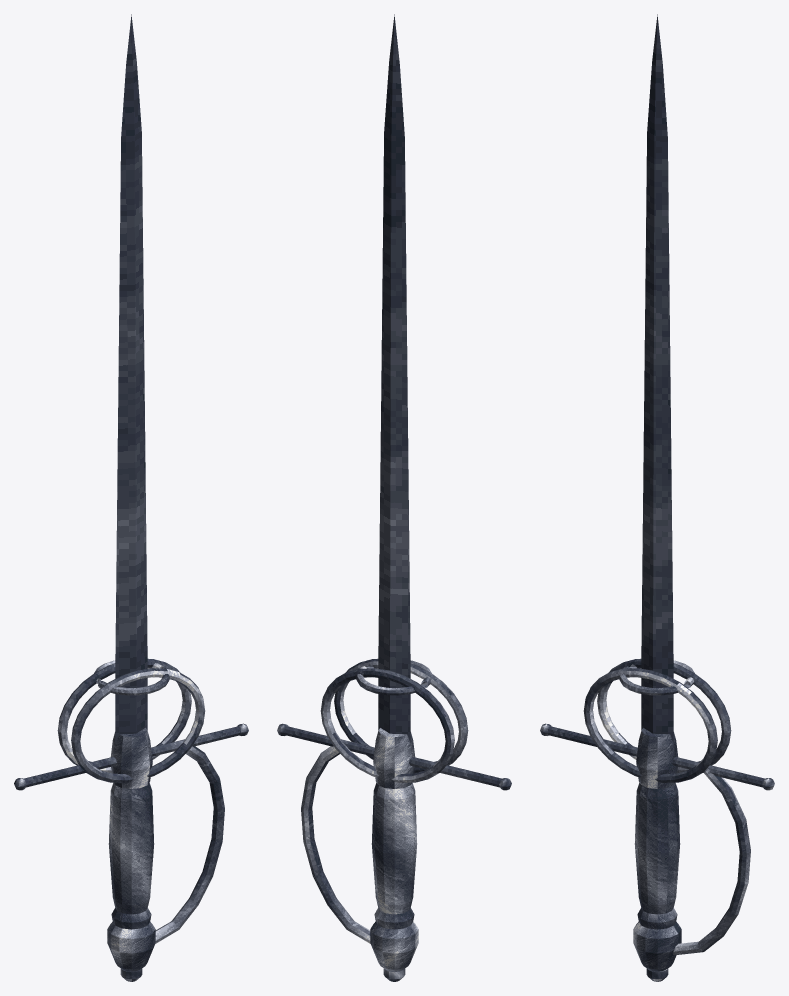
Rendered from rapieira.glb.
3 renders of one model, left to right at view 1: azimuth 30°, elevation 25°; view 2: azimuth 150°, elevation 25°; view 3: azimuth 330°, elevation 25°, orthographic.
Visible parts, largest first — view 1: Lâmina fina de rapieira, Empunhadura metálica, Aro oval da guarda, Arco de proteção, Aro oval da guarda.001, Centro de união da guarda, Pomo em gota, Braço transversal, Aro ao redor da lâmina, Colar do pomo; view 2: Lâmina fina de rapieira, Empunhadura metálica, Aro oval da guarda.001, Arco de proteção, Aro oval da guarda, Centro de união da guarda, Pomo em gota, Braço transversal, Aro ao redor da lâmina, Colar do pomo; view 3: Lâmina fina de rapieira, Empunhadura metálica, Aro oval da guarda, Arco de proteção, Aro oval da guarda.001, Centro de união da guarda, Pomo em gota, Braço transversal, Aro ao redor da lâmina, Colar do pomo.
Boxes of the visible parts, box(x1,y1,x2,y2) form: Lâmina fina de rapieira: box(115, 14, 147, 743); Empunhadura metálica: box(108, 782, 154, 914); Aro oval da guarda: box(71, 668, 205, 782); Arco de proteção: box(155, 746, 224, 943); Aro oval da guarda.001: box(57, 658, 191, 773); Centro de união da guarda: box(110, 728, 152, 788); Pomo em gota: box(107, 921, 155, 971); Braço transversal: box(24, 726, 240, 787); Aro ao redor da lâmina: box(94, 660, 169, 695); Colar do pomo: box(111, 908, 151, 929); Lâmina fina de rapieira: box(378, 14, 410, 743); Empunhadura metálica: box(371, 782, 417, 914); Aro oval da guarda.001: box(320, 668, 454, 782); Arco de proteção: box(301, 746, 370, 943); Aro oval da guarda: box(334, 658, 468, 773); Centro de união da guarda: box(373, 728, 415, 788); Pomo em gota: box(370, 921, 418, 971); Braço transversal: box(285, 726, 501, 787); Aro ao redor da lâmina: box(356, 660, 431, 695); Colar do pomo: box(374, 908, 414, 929); Lâmina fina de rapieira: box(641, 14, 673, 743); Empunhadura metálica: box(634, 782, 680, 914); Aro oval da guarda: box(583, 668, 717, 782); Arco de proteção: box(673, 768, 750, 955); Aro oval da guarda.001: box(597, 658, 731, 773); Centro de união da guarda: box(636, 728, 678, 788); Pomo em gota: box(633, 921, 681, 971); Braço transversal: box(548, 726, 764, 787); Aro ao redor da lâmina: box(619, 660, 694, 695); Colar do pomo: box(637, 908, 677, 929).
Bounding box in the file's own units: 1.01 × 3.99 × 0.29.
Materials: 1 (1 with a texture image).
